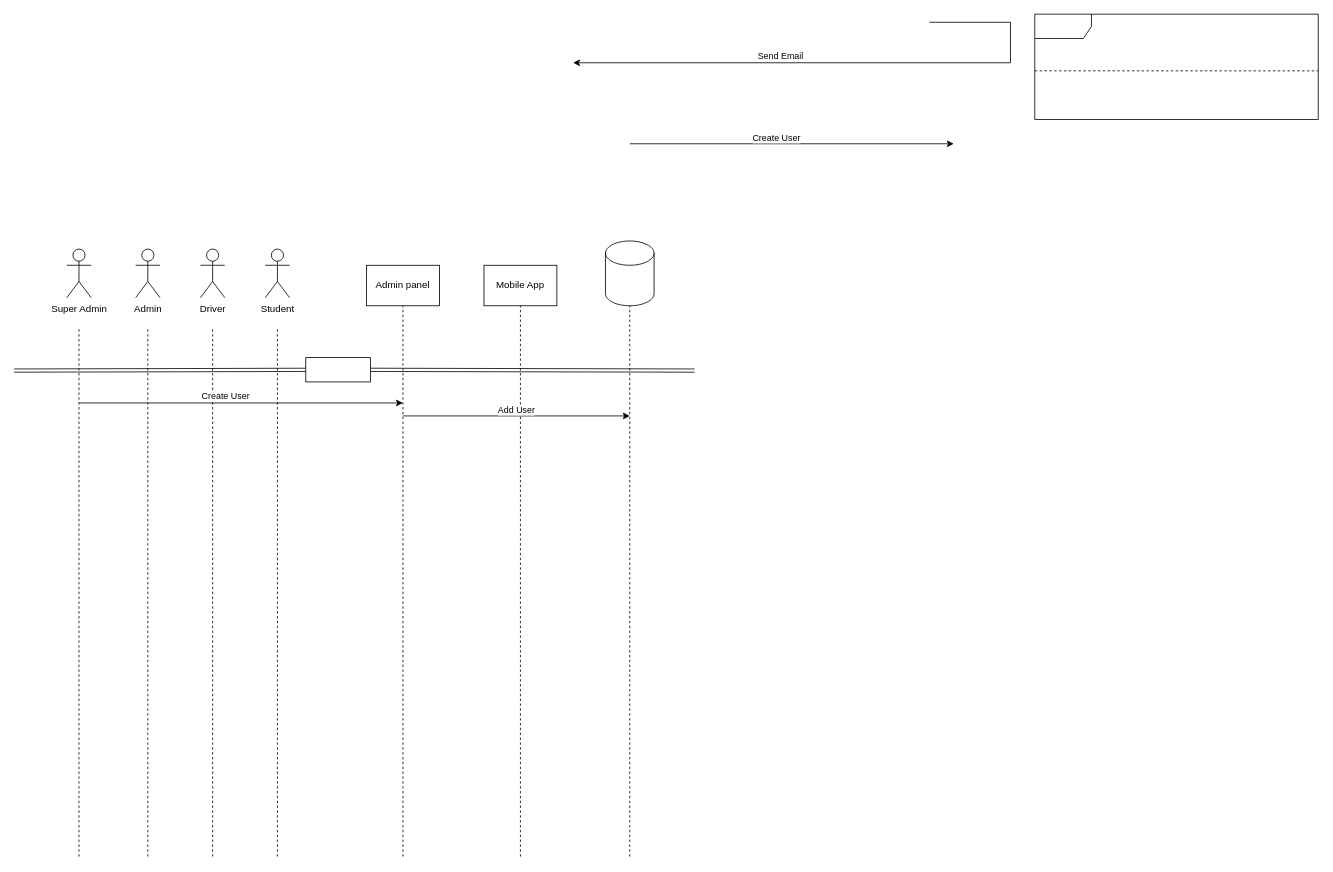
The diagram is 1333 pixels wide and 872 high, and some of its shapes have lost their labels. The box of each missing label's shape, as (x1, y1, x2, y2) in pixels:
Alternative: (1034, 13, 1318, 119)
Firebase: (605, 240, 654, 306)
user sign up: (305, 357, 371, 382)
